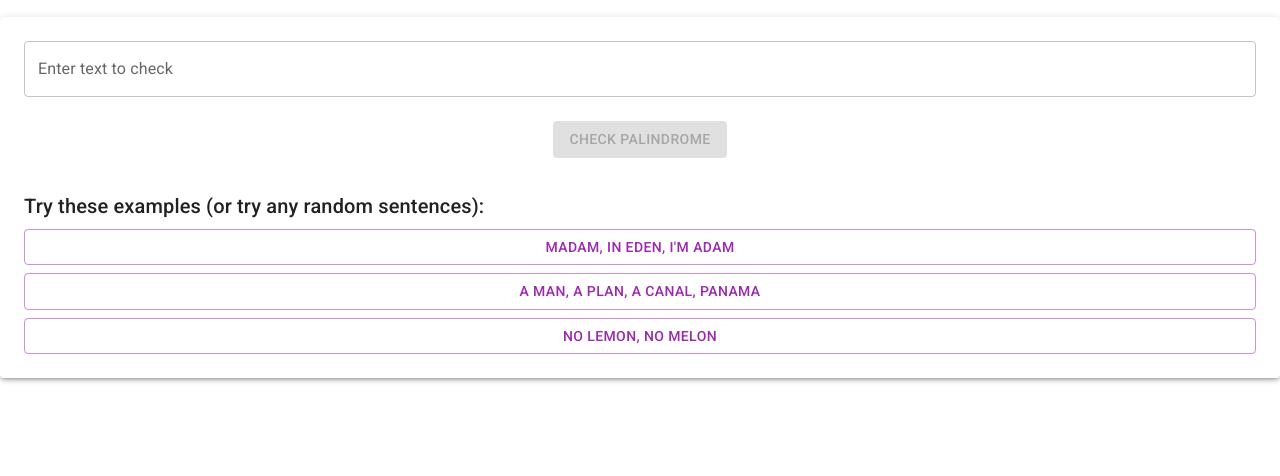
Test: PalindromeChecker component › loads an example when clicked
The width and height of the screenshot is (1280, 476).
# Click on an example
Click the button "A man, a plan, a canal, Panama".
click(640, 291)  # box left=24, top=273, right=1256, bottom=310
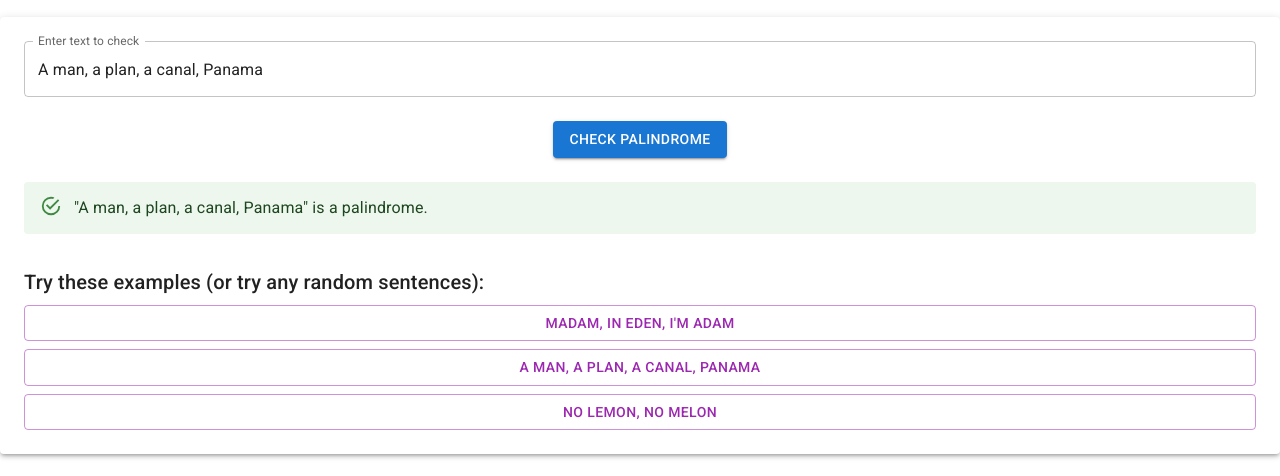
Now the field labelled "Enter text to check" holds "A man, a plan, a canal, Panama", box left=24, top=41, right=1256, bottom=97
Now the text "\"A man, a plan, a canal, Panama\" is a palindrome." is shown, box left=74, top=196, right=428, bottom=220
